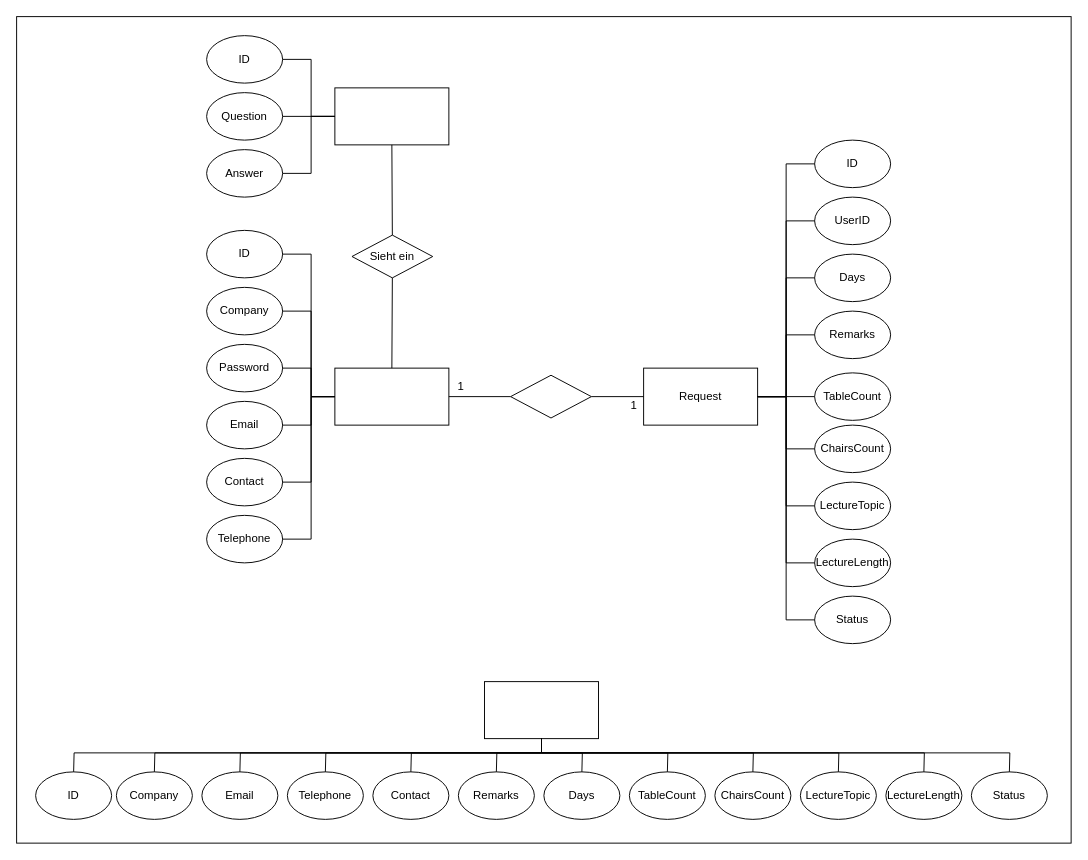
The diagram is 1088 pixels wide and 860 high, and some of its shapes have lost their labels. The box of each missing label's shape, as (x1, y1, x2, y2) in pixels:
Faq: (334, 87, 449, 145)
GuestRequest: (484, 681, 598, 739)
Sendet: (510, 374, 591, 418)
User: (334, 367, 449, 425)
